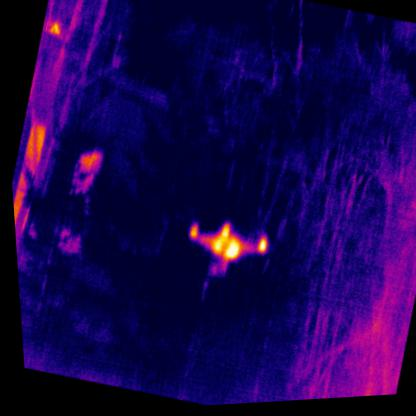drone: (173, 209, 271, 293)
